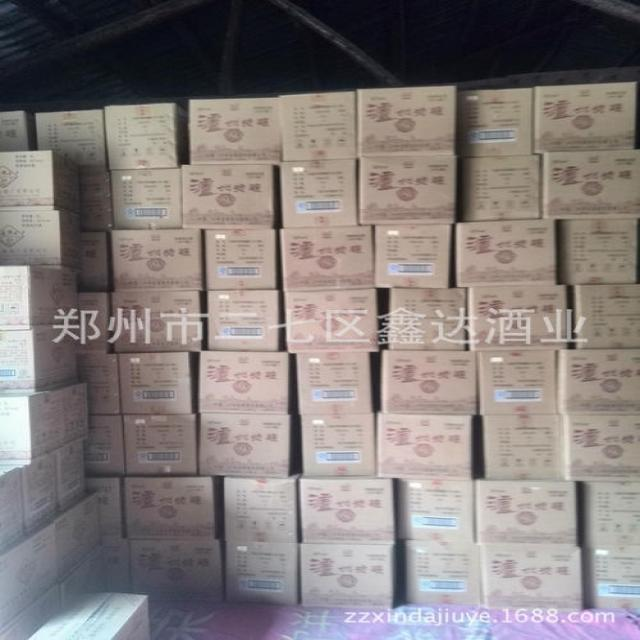box: (532, 81, 637, 154), (453, 218, 561, 288), (0, 381, 88, 465), (357, 84, 457, 156), (475, 480, 584, 546), (357, 154, 458, 225), (476, 543, 586, 608), (376, 412, 480, 479), (541, 149, 639, 219), (375, 349, 477, 415), (0, 522, 59, 636), (198, 413, 301, 478), (300, 475, 397, 544), (466, 285, 570, 349), (180, 163, 282, 228), (198, 349, 297, 415), (279, 225, 375, 292), (127, 538, 227, 602), (188, 98, 282, 166), (298, 543, 397, 607), (280, 289, 380, 352), (124, 476, 223, 538), (28, 590, 150, 640), (102, 102, 188, 171), (113, 229, 206, 292), (454, 154, 541, 221), (479, 414, 566, 481), (219, 472, 301, 543), (113, 291, 207, 352), (396, 539, 481, 606), (288, 351, 378, 414), (477, 349, 562, 415), (559, 414, 640, 483), (379, 288, 468, 350), (279, 91, 357, 161), (280, 157, 358, 227), (0, 151, 81, 218), (559, 348, 640, 415), (394, 478, 477, 543), (116, 352, 201, 414), (457, 88, 532, 157), (0, 210, 82, 273), (0, 328, 78, 394), (561, 218, 639, 284), (372, 225, 453, 288), (0, 266, 79, 330), (297, 413, 376, 477), (122, 412, 198, 476), (224, 541, 301, 604), (202, 228, 280, 290), (207, 288, 285, 350), (35, 108, 108, 173), (51, 492, 102, 583), (108, 168, 182, 229), (570, 283, 639, 348), (582, 481, 640, 548), (59, 542, 110, 611), (584, 546, 640, 608), (0, 584, 60, 640), (78, 352, 120, 415), (27, 454, 59, 536), (83, 414, 124, 478), (87, 475, 125, 541), (0, 464, 27, 554), (56, 441, 87, 513), (77, 293, 114, 353), (78, 230, 113, 292), (79, 171, 113, 231), (102, 539, 133, 592), (0, 110, 38, 152)
